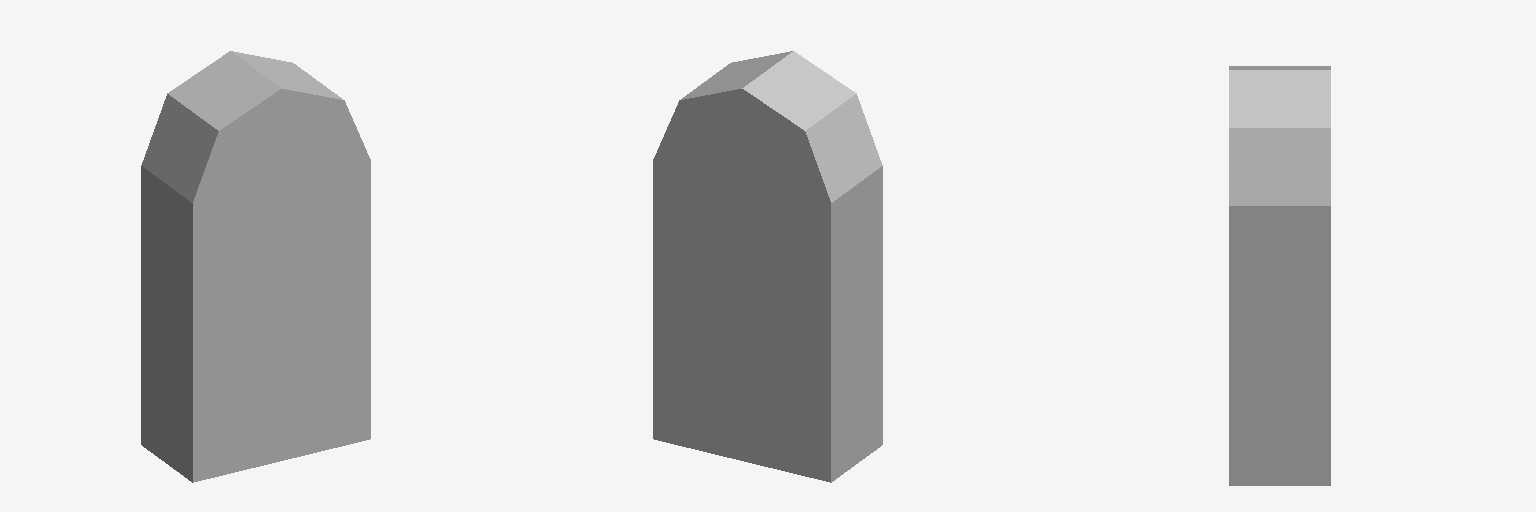
Rendered from end.obj.
The picture shows the model from 3 angles: view 1: azimuth 30°, elevation 25°; view 2: azimuth 150°, elevation 25°; view 3: azimuth 270°, elevation 25°; orthographic projection.
Parts seen in each view (by area): view 1: End.001_Cube.000; view 2: End.001_Cube.000; view 3: End.001_Cube.000.
Part boxes in pixels (bbox=[...]): End.001_Cube.000: bbox=[141, 51, 370, 482]; End.001_Cube.000: bbox=[653, 51, 882, 482]; End.001_Cube.000: bbox=[1229, 66, 1330, 485].
Bounding box in the file's own units: 1 × 2 × 0.5.